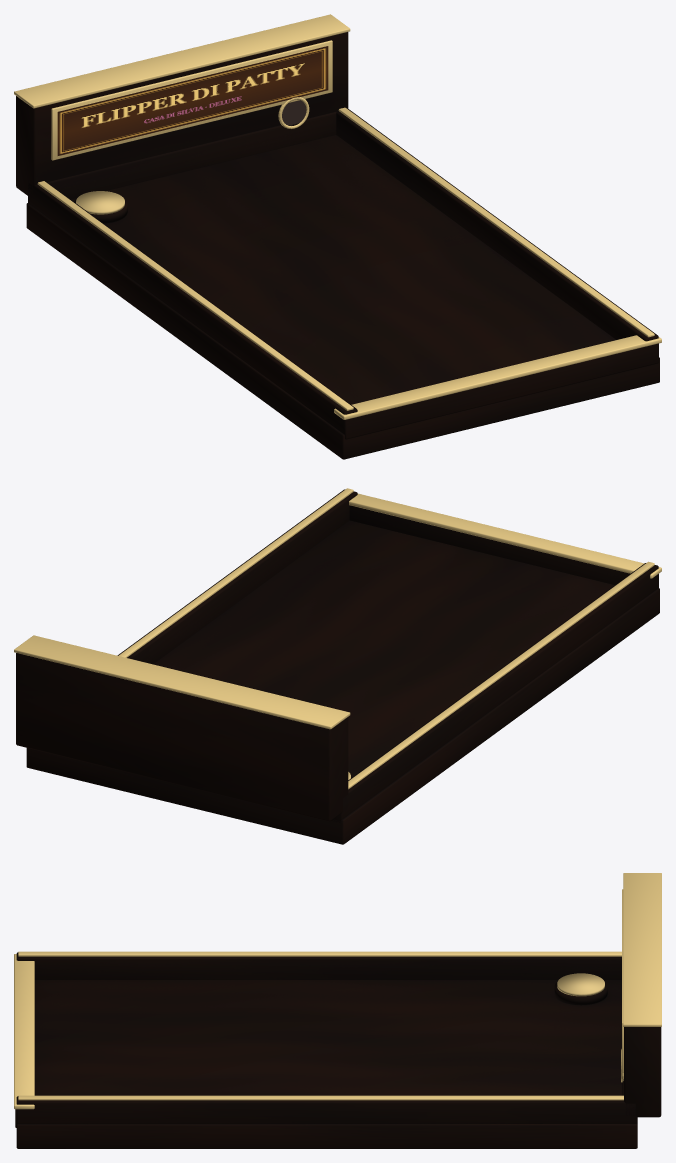
File: pinball_cabinet.glb
The picture shows the model from 3 angles, top to bottom: view 1: azimuth 30°, elevation 25°; view 2: azimuth 150°, elevation 25°; view 3: azimuth 270°, elevation 25°; orthographic projection. The views are drawn at different scales.
Parts seen in each view (by area): view 1: Cabinet_Walnut_AO, Backbox_Marquee_Face, BrassBackboxTop, BrassLockdown, BrassMarqueeRim, BrassSideR, BrassSideL, Patty_Pedestal_Gold; view 2: Cabinet_Walnut_AO, BrassBackboxTop, BrassLockdown, BrassSideL, BrassSideR; view 3: Cabinet_Walnut_AO, BrassBackboxTop, BrassSideR, BrassSideL, BrassLockdown, Patty_Pedestal_Gold.
Boxes of the visible parts, left/top/right/bottom form: Cabinet_Walnut_AO: left=16, top=32, right=659, bottom=459; Backbox_Marquee_Face: left=57, top=46, right=328, bottom=155; BrassBackboxTop: left=14, top=14, right=350, bottom=108; BrassLockdown: left=334, top=335, right=661, bottom=419; BrassMarqueeRim: left=51, top=40, right=332, bottom=160; BrassSideR: left=338, top=107, right=654, bottom=337; BrassSideL: left=37, top=181, right=353, bottom=410; Patty_Pedestal_Gold: left=76, top=191, right=124, bottom=214; Cabinet_Walnut_AO: left=16, top=489, right=659, bottom=844; BrassBackboxTop: left=14, top=635, right=350, bottom=729; BrassLockdown: left=349, top=493, right=661, bottom=578; BrassSideL: left=348, top=561, right=654, bottom=789; BrassSideR: left=118, top=488, right=353, bottom=657; Cabinet_Walnut_AO: left=15, top=952, right=661, bottom=1148; BrassBackboxTop: left=623, top=873, right=661, bottom=1026; BrassSideR: left=18, top=1095, right=623, bottom=1100; BrassSideL: left=18, top=951, right=621, bottom=956; BrassLockdown: left=14, top=954, right=34, bottom=1109; Patty_Pedestal_Gold: left=557, top=973, right=604, bottom=996.
Bounding box in the file's own units: 11.12 × 4.26 × 20.03.
5 materials, 2 textured.
